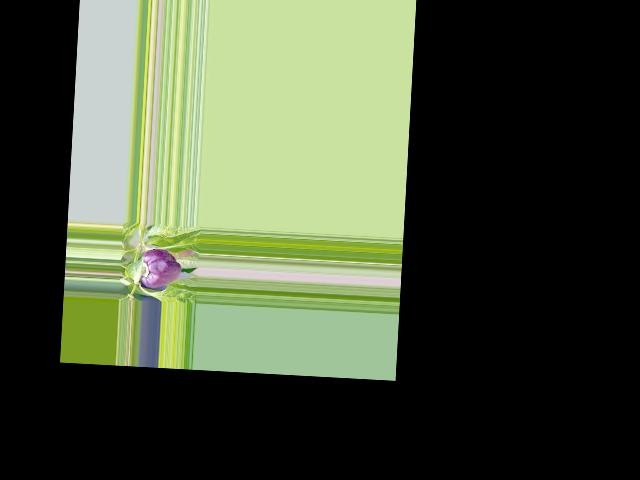bell_pepper: (135, 246, 184, 289)
